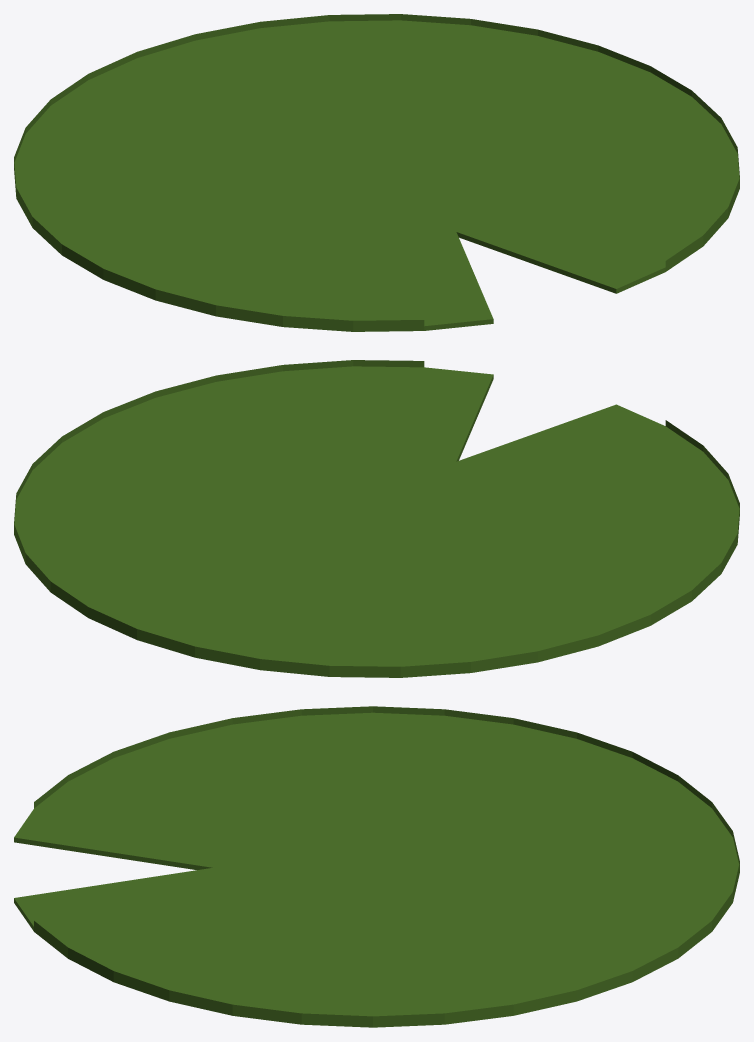
File: lilipadTrampoloine (1).fbx
3 renders of one model, top to bottom at view 1: azimuth 30°, elevation 25°; view 2: azimuth 150°, elevation 25°; view 3: azimuth 270°, elevation 25°, orthographic.
Parts seen in each view (by area): view 1: Circle; view 2: Circle; view 3: Circle.
Part boxes in pixels (box(x1,y1,x2,y2)): Circle: box(14, 14, 739, 331); Circle: box(14, 360, 739, 677); Circle: box(14, 706, 739, 1027).
Bounding box in the file's own units: 909 × 15.41 × 899.
